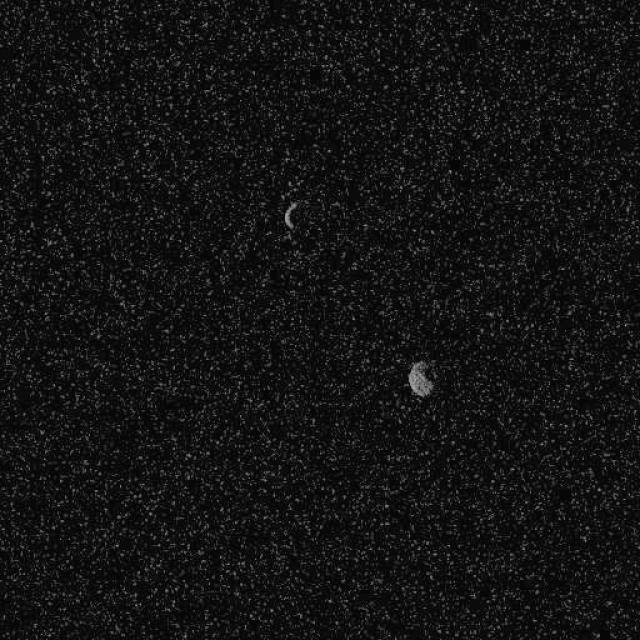D2: (406, 358, 436, 398), (282, 200, 298, 231)
